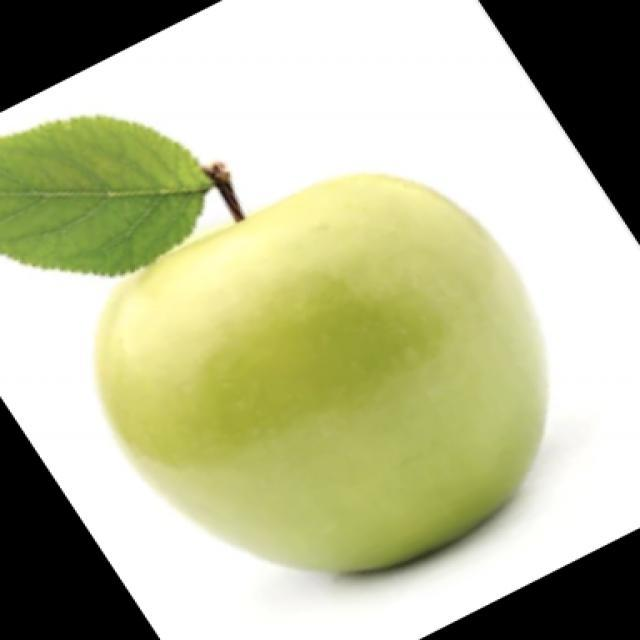Fresh Apple: (70, 205, 560, 577)
